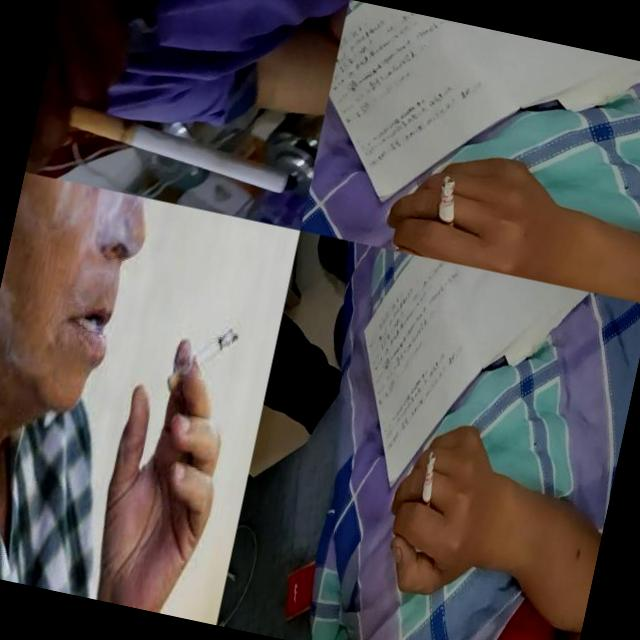smoke: (61, 104, 296, 198), (165, 316, 238, 402), (430, 173, 468, 240), (414, 449, 442, 521)
